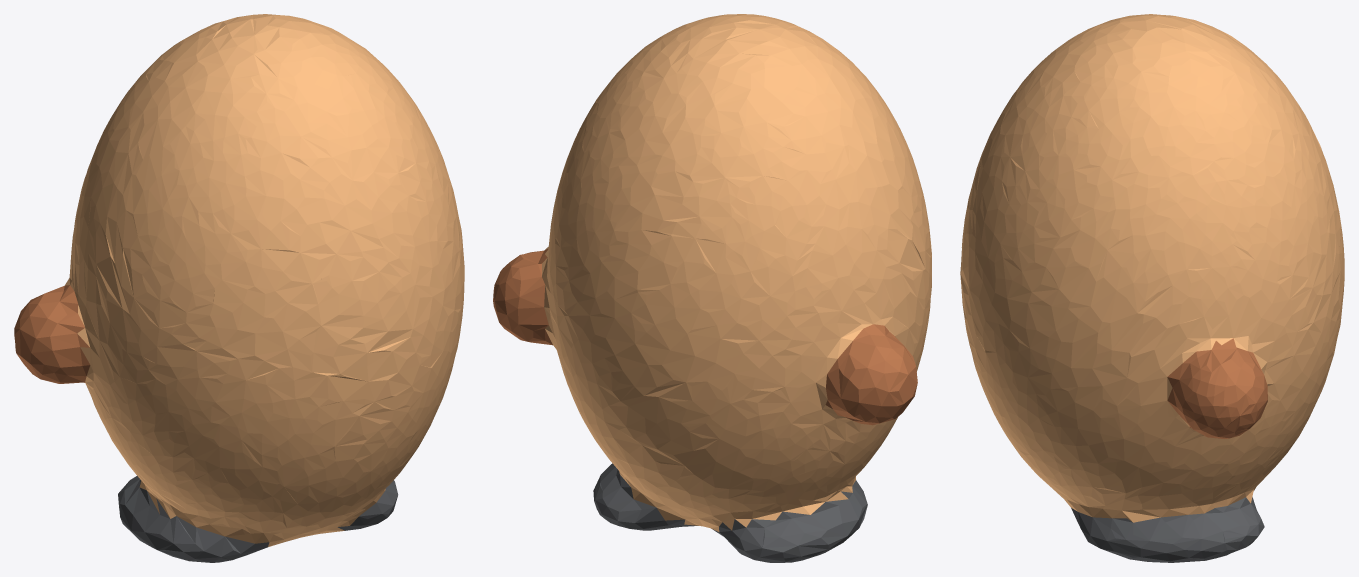
The model's file is blob-orange.glb.
3 views of the same model, side by side, from view 1: azimuth 30°, elevation 25°; view 2: azimuth 150°, elevation 25°; view 3: azimuth 270°, elevation 25° (orthographic). The views are drawn at different scales.
Visible parts, largest first — view 1: blob-orange, shoe, mitt-orange; view 2: blob-orange, mitt-orange, shoe; view 3: blob-orange, shoe, mitt-orange.
Boxes of the visible parts, x1,y1,x2,y2 form: blob-orange: (65, 14, 464, 546); shoe: (118, 476, 398, 562); mitt-orange: (14, 285, 90, 383); blob-orange: (542, 14, 931, 531); mitt-orange: (493, 249, 917, 425); shoe: (593, 463, 867, 562); blob-orange: (960, 14, 1344, 522); shoe: (1071, 497, 1264, 562); mitt-orange: (1167, 338, 1267, 438).
Size of the model in its own units: 1.24 by 1.42 by 1.
